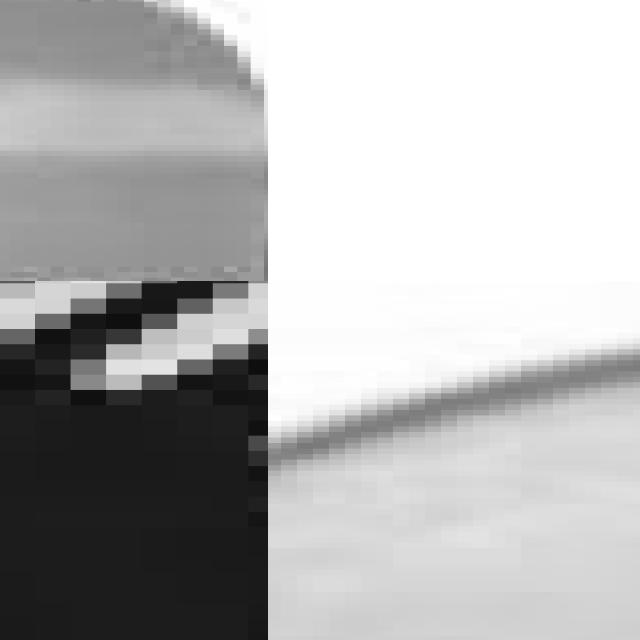forks: (0, 0, 268, 281), (0, 281, 268, 512)
spoons: (268, 281, 640, 640)
